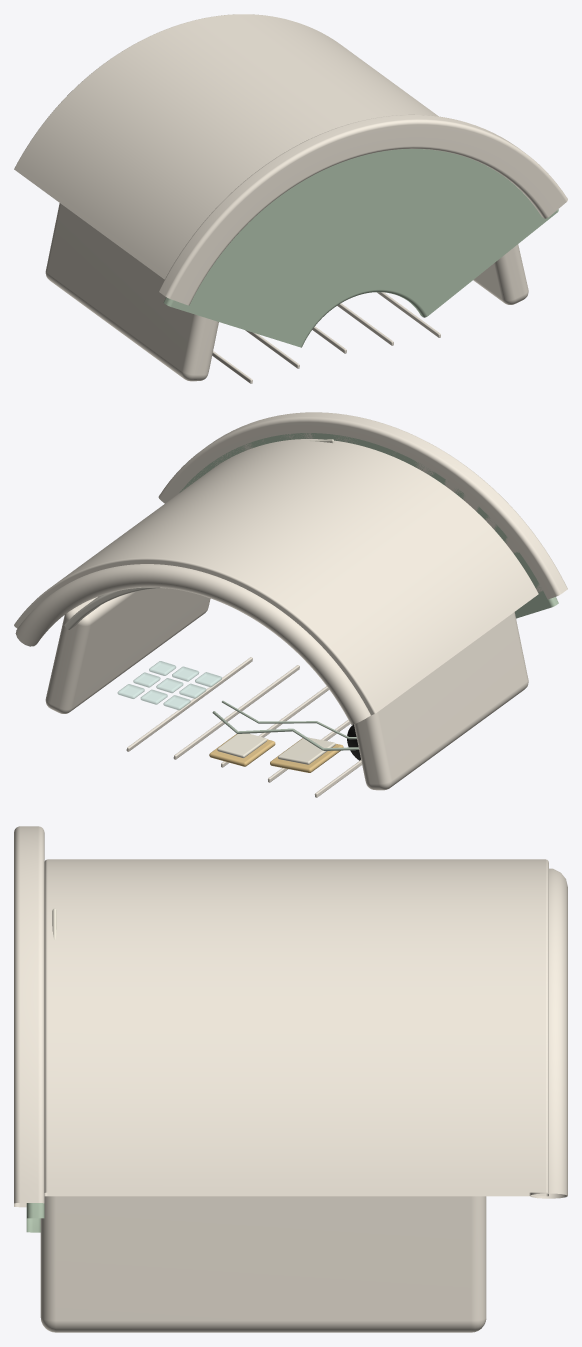
Rendered from 2024-quiet-room.glb.
The picture shows the model from 3 angles, top to bottom: view 1: azimuth 30°, elevation 25°; view 2: azimuth 150°, elevation 25°; view 3: azimuth 270°, elevation 25°; orthographic projection. The views are drawn at different scales.
Parts seen in each view (by area): view 1: outer_cream_shell_back, fan_sector_sage_floor, curved_front_cream_plinth, left_thick_cream_side_frame, right_thick_cream_side_frame; view 2: outer_cream_shell_back, left_thick_cream_side_frame, curved_front_cream_plinth, right_thick_cream_side_frame, rounded_top_cream_arc, fan_sector_sage_floor, left_wall_art_paper, subtle_wall_panel_rib_4, subtle_wall_panel_rib_5, center_wall_art_paper, smooth_curved_back_wall, left_wall_art_frame (+2 smaller); view 3: outer_cream_shell_back, right_thick_cream_side_frame, curved_front_cream_plinth, rounded_top_cream_arc.
Boxes of the visible parts, x1=… form: outer_cream_shell_back: x1=14, y1=14, x2=438, y2=279; fan_sector_sage_floor: x1=163, y1=149, x2=558, y2=347; curved_front_cream_plinth: x1=158, y1=114, x2=567, y2=305; left_thick_cream_side_frame: x1=45, y1=203, x2=218, y2=381; right_thick_cream_side_frame: x1=473, y1=244, x2=528, y2=304; outer_cream_shell_back: x1=14, y1=439, x2=538, y2=715; left_thick_cream_side_frame: x1=354, y1=612, x2=528, y2=790; curved_front_cream_plinth: x1=158, y1=412, x2=567, y2=599; right_thick_cream_side_frame: x1=45, y1=588, x2=210, y2=713; rounded_top_cream_arc: x1=15, y1=564, x2=370, y2=724; fan_sector_sage_floor: x1=179, y1=433, x2=558, y2=618; left_wall_art_paper: x1=278, y1=737, x2=335, y2=764; subtle_wall_panel_rib_4: x1=173, y1=665, x2=299, y2=759; subtle_wall_panel_rib_5: x1=126, y1=657, x2=252, y2=751; center_wall_art_paper: x1=217, y1=733, x2=267, y2=758; smooth_curved_back_wall: x1=64, y1=587, x2=163, y2=629; left_wall_art_frame: x1=270, y1=738, x2=343, y2=772; outer_cream_shell_back: x1=44, y1=859, x2=548, y2=1196; right_thick_cream_side_frame: x1=40, y1=1196, x2=486, y2=1332; curved_front_cream_plinth: x1=14, y1=826, x2=44, y2=1207; rounded_top_cream_arc: x1=529, y1=868, x2=567, y2=1198.
Bounding box in the file's own units: 2.81 × 1.67 × 2.18.
